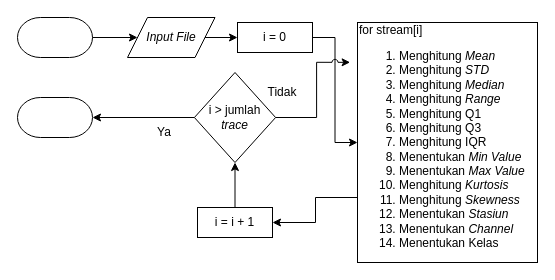
This 555x280 diagram has some shape labels left out. The shapes that lost their labels are listed below. From the top down, each one's box as (x1, y1, x2, y2) in pixels, then its label:
(16, 16, 92, 58): Start
(16, 96, 92, 138): End
